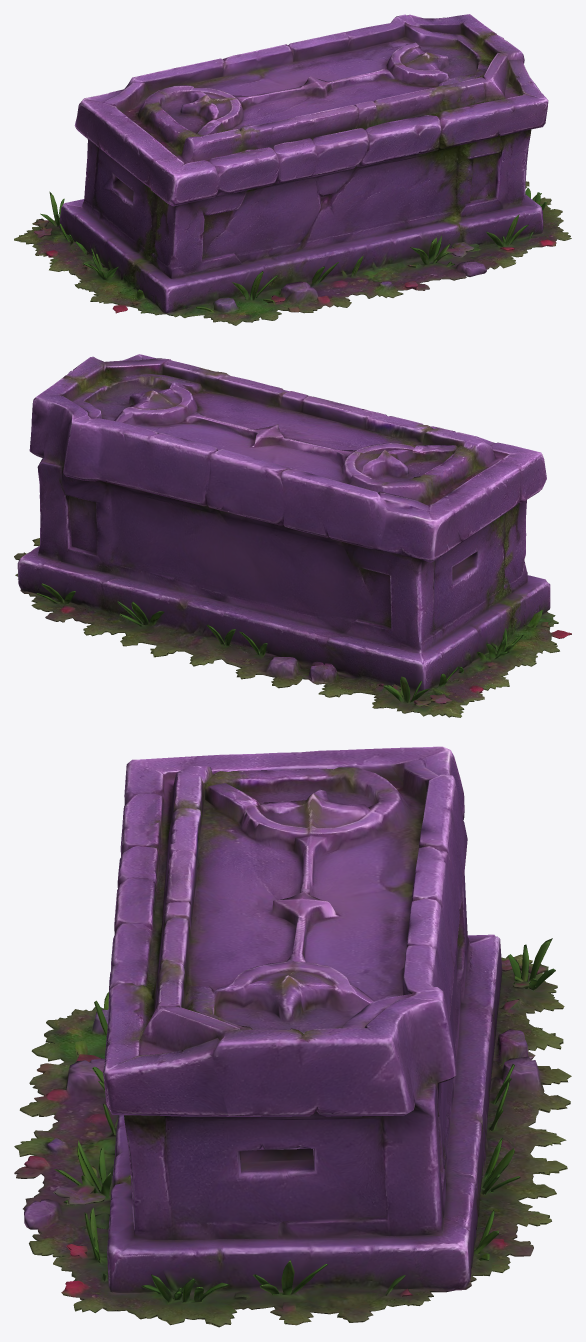
The model's file is gen_coffin.glb.
The picture shows the model from 3 angles, top to bottom: view 1: azimuth 30°, elevation 25°; view 2: azimuth 150°, elevation 25°; view 3: azimuth 270°, elevation 25°; orthographic projection. The views are drawn at different scales.
Visible parts, largest first — view 1: tripo_node_20979f77-c32d-4f78-a594-a5fbace28cfb; view 2: tripo_node_20979f77-c32d-4f78-a594-a5fbace28cfb; view 3: tripo_node_20979f77-c32d-4f78-a594-a5fbace28cfb.
Part boxes in pixels (<box>): tripo_node_20979f77-c32d-4f78-a594-a5fbace28cfb: <box>14,14,571,325</box>; tripo_node_20979f77-c32d-4f78-a594-a5fbace28cfb: <box>14,354,571,717</box>; tripo_node_20979f77-c32d-4f78-a594-a5fbace28cfb: <box>14,746,571,1327</box>.
Size of the model in its own units: 0.9814 by 0.3402 by 0.6218.
1 material, 1 textured.
